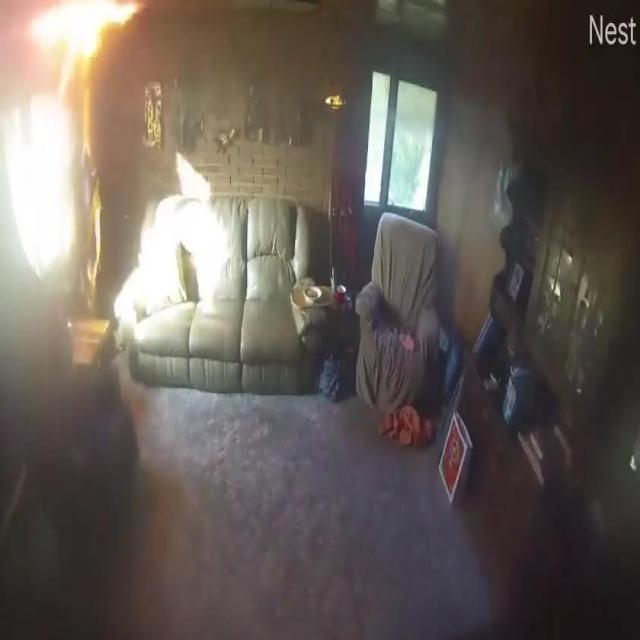smoke: (18, 0, 141, 73), (77, 90, 106, 310)
